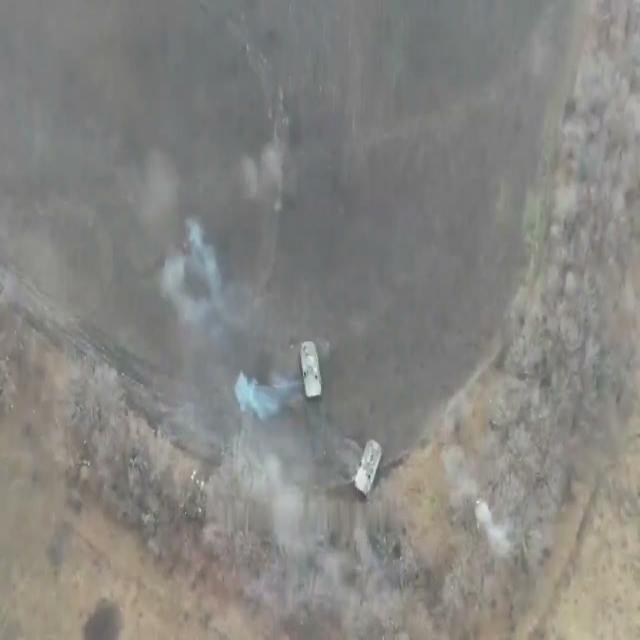apc: (354, 436, 384, 496), (298, 340, 325, 398)
